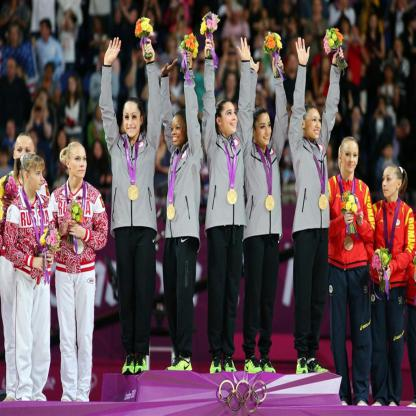face: (125, 107, 141, 139), (70, 150, 87, 178), (222, 107, 238, 133), (257, 119, 273, 145), (306, 115, 322, 140), (383, 170, 397, 197), (343, 148, 359, 171), (16, 143, 32, 166), (173, 120, 187, 145), (29, 168, 44, 190), (10, 62, 17, 84), (1, 155, 9, 171), (227, 77, 236, 91), (95, 144, 103, 158), (14, 27, 21, 42), (58, 134, 66, 147), (385, 145, 393, 157), (290, 58, 298, 70), (69, 80, 76, 93), (353, 110, 360, 122), (385, 68, 393, 78), (98, 107, 104, 120), (41, 26, 48, 37), (40, 94, 46, 106), (8, 123, 14, 135), (371, 18, 378, 27), (379, 101, 385, 111), (47, 68, 52, 79)
